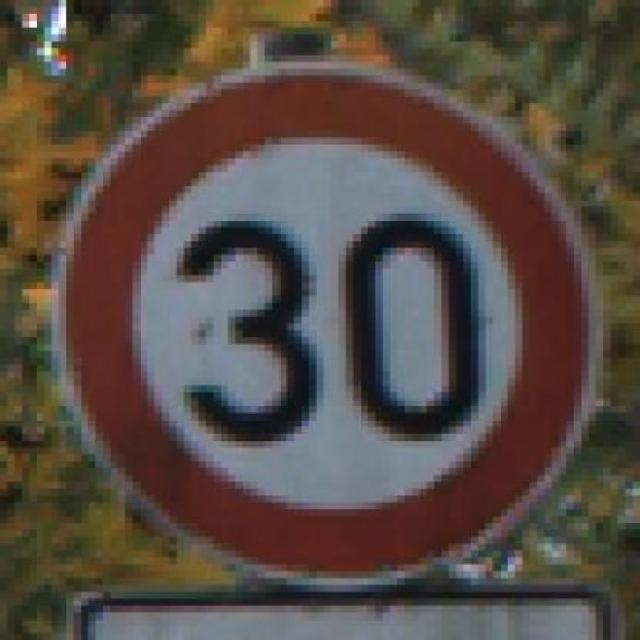Speed Limit 30 KMPh: (14, 35, 626, 599)
